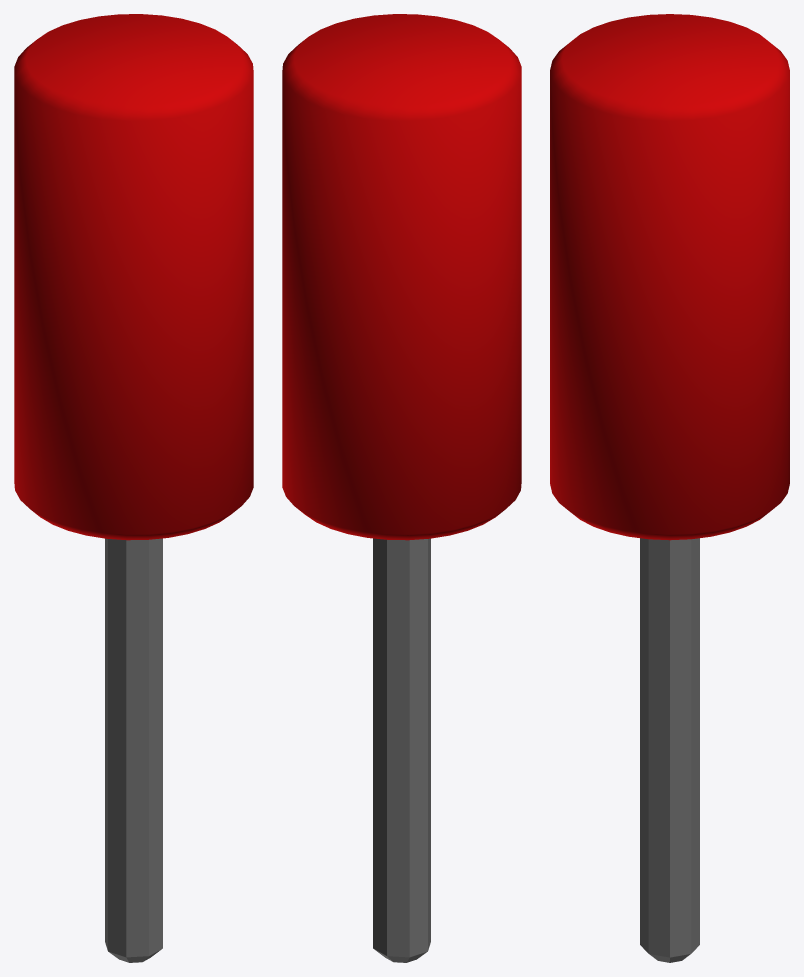
Rendered from bonker.fbx.
3 renders of one model, left to right at view 1: azimuth 30°, elevation 25°; view 2: azimuth 150°, elevation 25°; view 3: azimuth 270°, elevation 25°, orthographic.
Visible parts, largest first — view 1: Cilindro.013, Cilindro.015; view 2: Cilindro.013, Cilindro.015; view 3: Cilindro.013, Cilindro.015.
Part boxes in pixels (x1=…): Cilindro.013: x1=14, y1=14, x2=253, y2=540; Cilindro.015: x1=105, y1=538, x2=162, y2=962; Cilindro.013: x1=282, y1=14, x2=521, y2=540; Cilindro.015: x1=373, y1=538, x2=430, y2=962; Cilindro.013: x1=550, y1=14, x2=789, y2=540; Cilindro.015: x1=640, y1=538, x2=699, y2=962.
Size of the model in its own units: 2 by 8.24 by 2.
